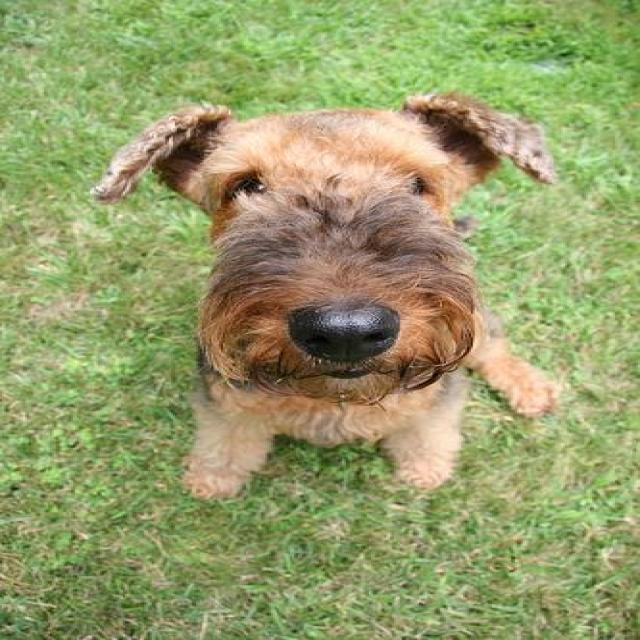airedale: (92, 93, 561, 506)
